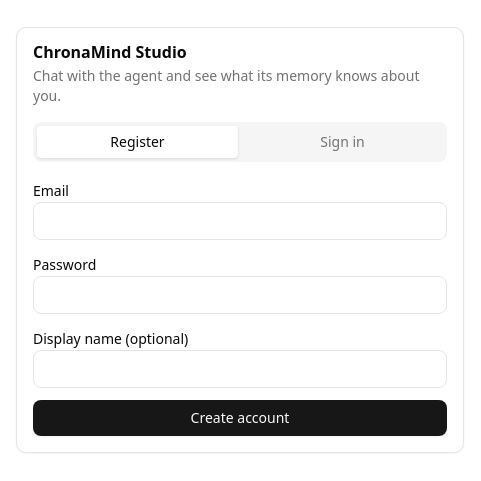
Test case: Register › shows every broken password rule and sends nothing
Type "new@example.com" into the field labelled "Email" at (240, 221), box [33,202,447,240]
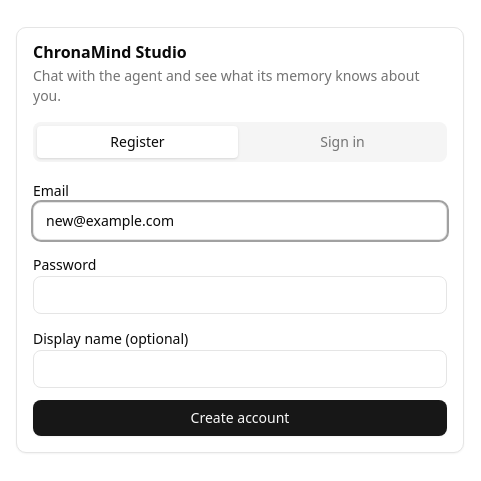
Type "Demo-pass1" into the password field labelled "Password" at (240, 295), box [33,276,447,314]
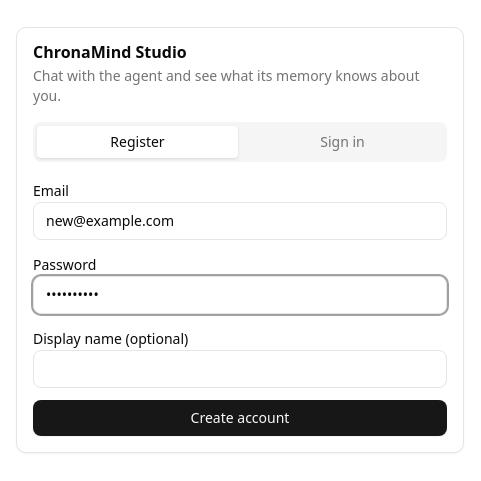
Click the button "Create account" at (240, 418), box [33,400,447,436]
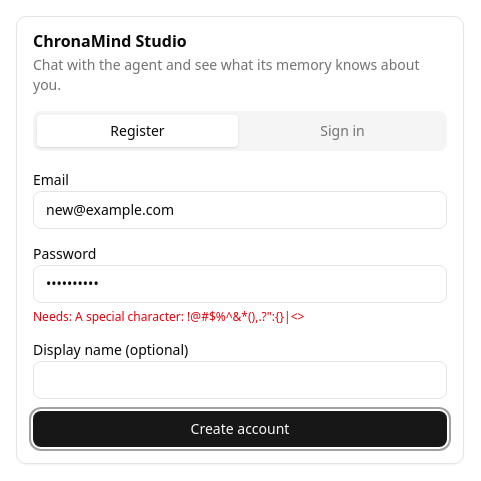
Result: the list item "Needs: A special character: !@#$%^&*(),.?\":{}|<>" is shown at [33,308,304,325]
